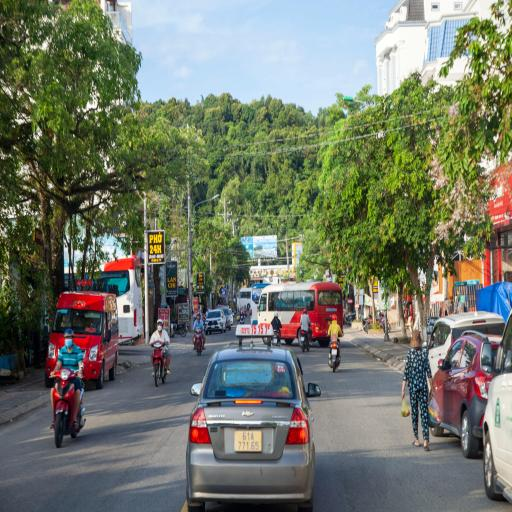place: (234, 432, 263, 450), (332, 350, 338, 355), (273, 338, 277, 344), (301, 337, 304, 342)
